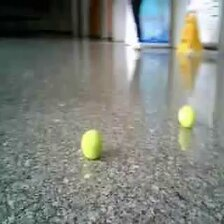tennis: (82, 129, 104, 159), (177, 105, 196, 127)
